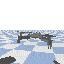drone: (16, 31, 56, 49)
